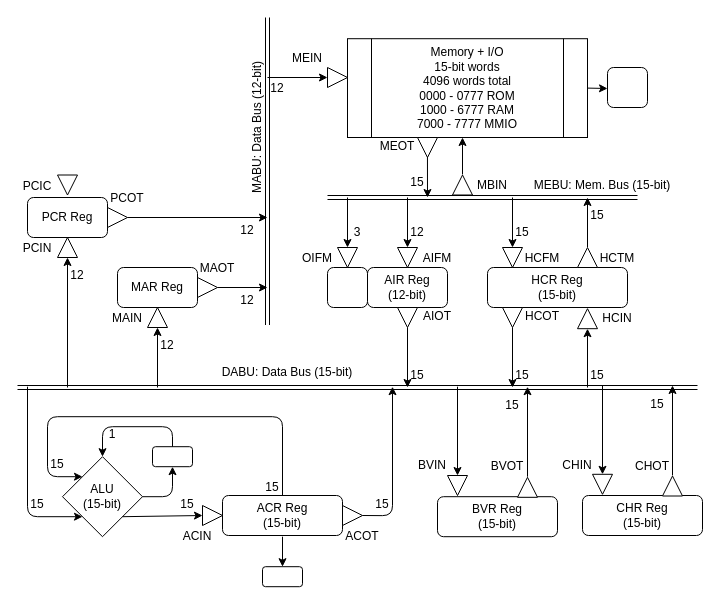
This 720x605 diagram has some shape labels left out. The box of each missing label's shape, as (x1, y1, x2, y2) in pixels:
Carry: (152, 446, 192, 467)
Mem Ready: (606, 66, 648, 108)
OIR (3-bit): (326, 266, 368, 308)
Zero: (262, 566, 302, 587)
